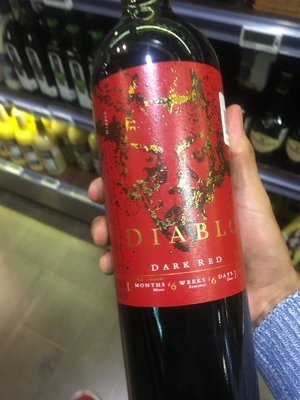diablo dark red: (83, 11, 248, 400)
